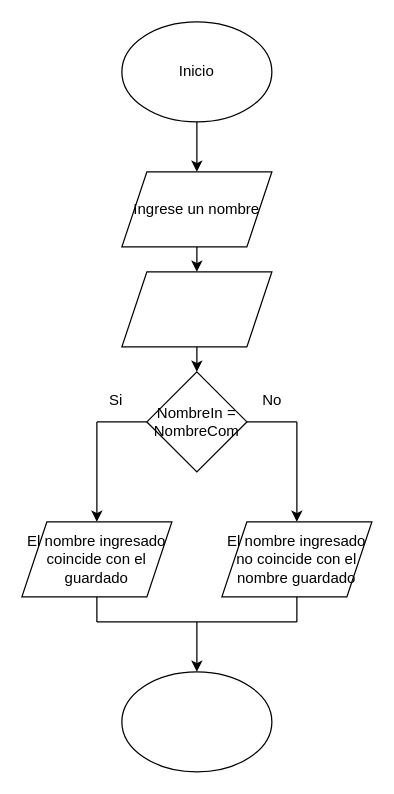
Image size: 394x794. Some labels were removed from this diagram. The shapes that lost their labels are listed below. From the top down, each one's box as (x1, y1, x2, y2) in pixels, then its label:
(121, 271, 272, 347): NombreIn NombreCo = Mauricio
(121, 671, 272, 772): Fin
